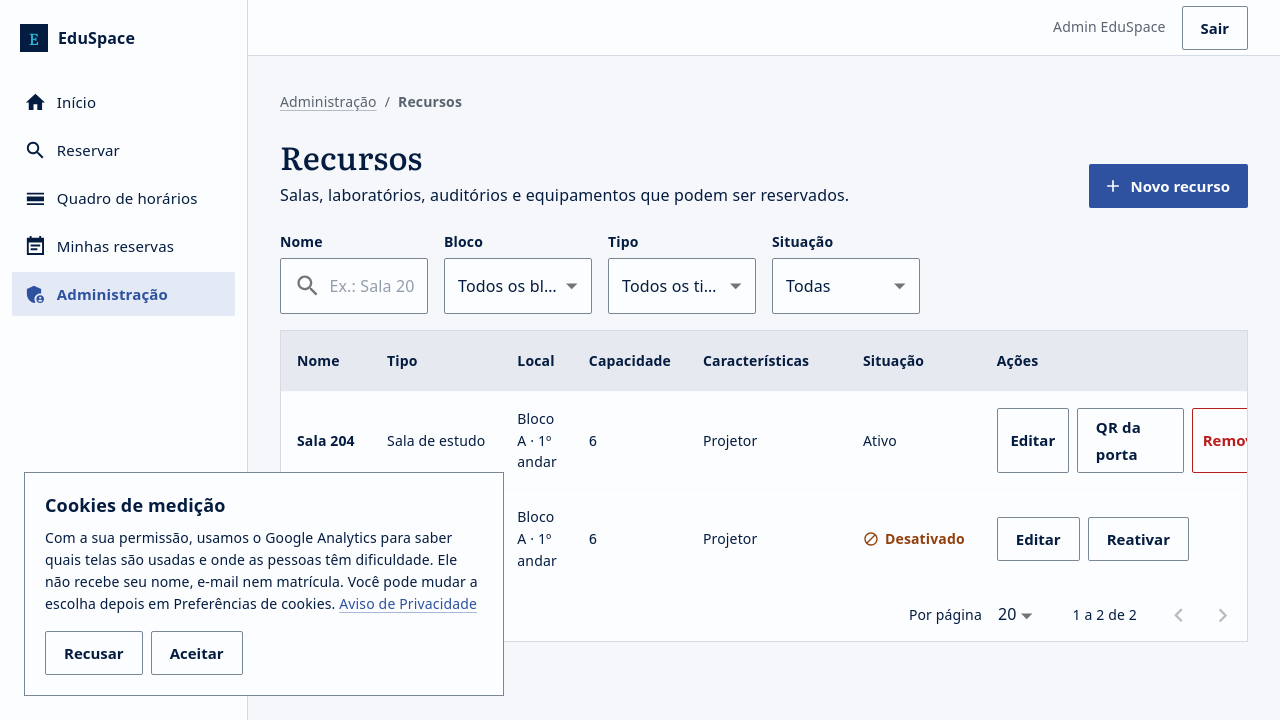
admin resources › reports when a resource without history is deleted
Click the button with aria-label "Remover Sala 204". click: (1236, 441)
box: [1192,408,1279,473]
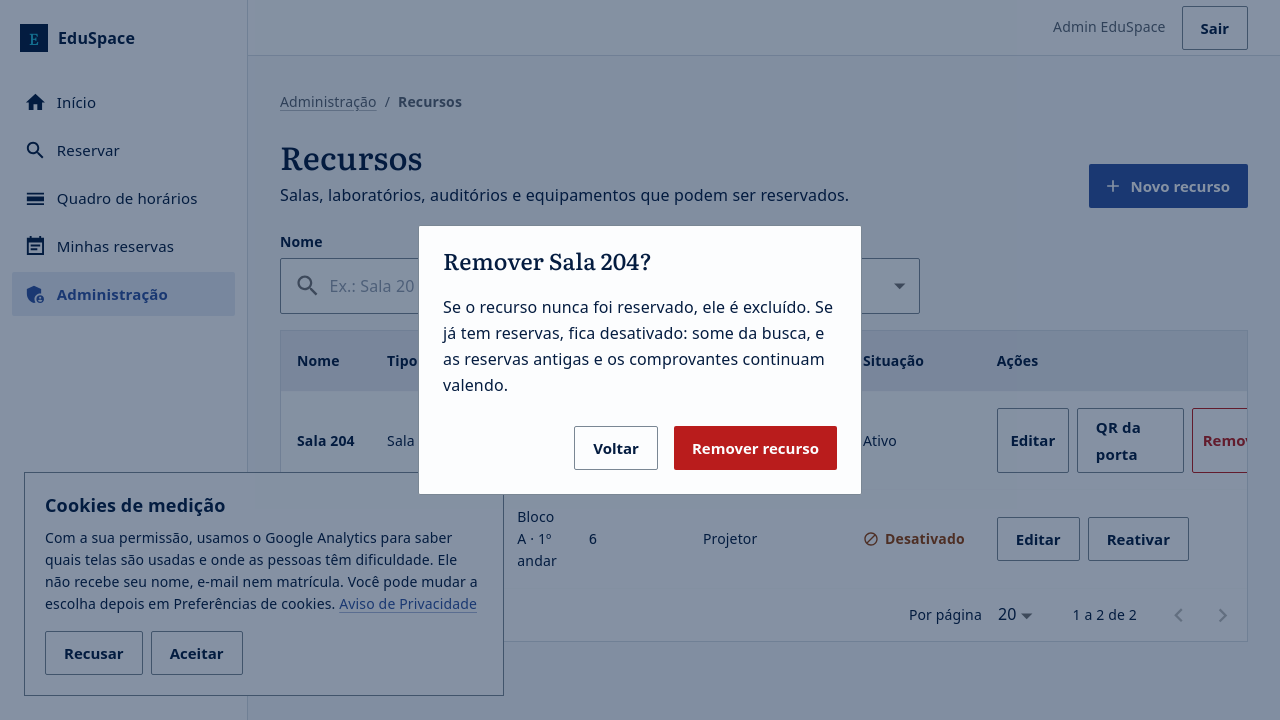
Click the button "Remover recurso". click: (755, 448)
box: [674,426,837,470]
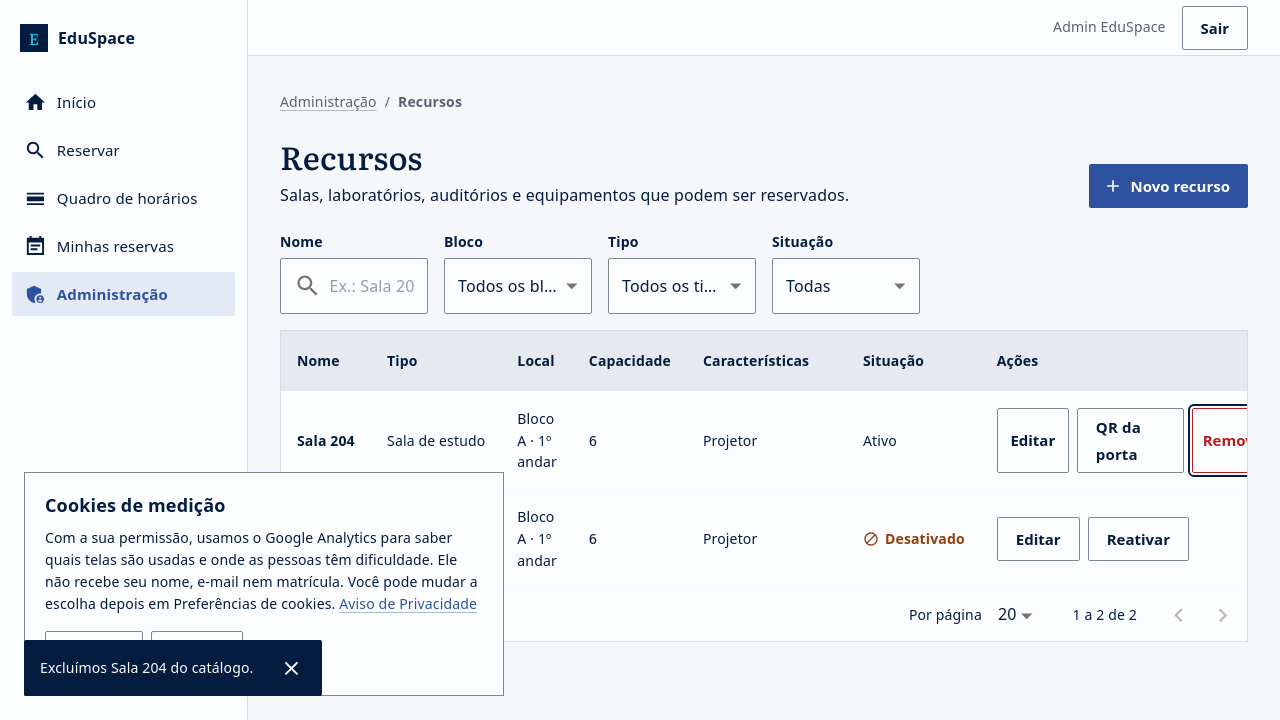
Check: the message reads "Excluímos Sala 204 do catálogo.", box [40,658,254,677]
